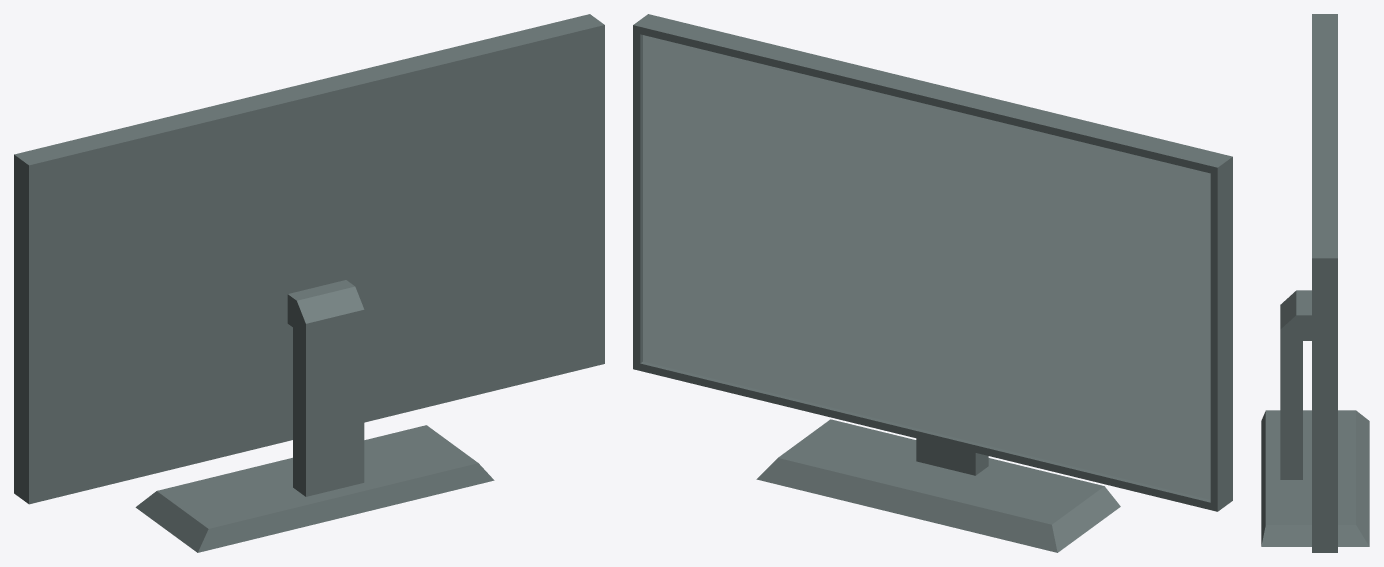
Rendered from neon-sign.glb.
3 renders of one model, left to right at view 1: azimuth 30°, elevation 25°; view 2: azimuth 150°, elevation 25°; view 3: azimuth 270°, elevation 25°, orthographic. The views are drawn at different scales.
Parts seen in each view (by area): view 1: televisionModern; view 2: televisionModern; view 3: televisionModern.
Part boxes in pixels (left/top/right/bottom): televisionModern: left=14, top=14, right=604, bottom=552; televisionModern: left=633, top=14, right=1232, bottom=552; televisionModern: left=1261, top=14, right=1369, bottom=552.
Bounding box in the file's own units: 6.85 × 4.55 × 1.28.
